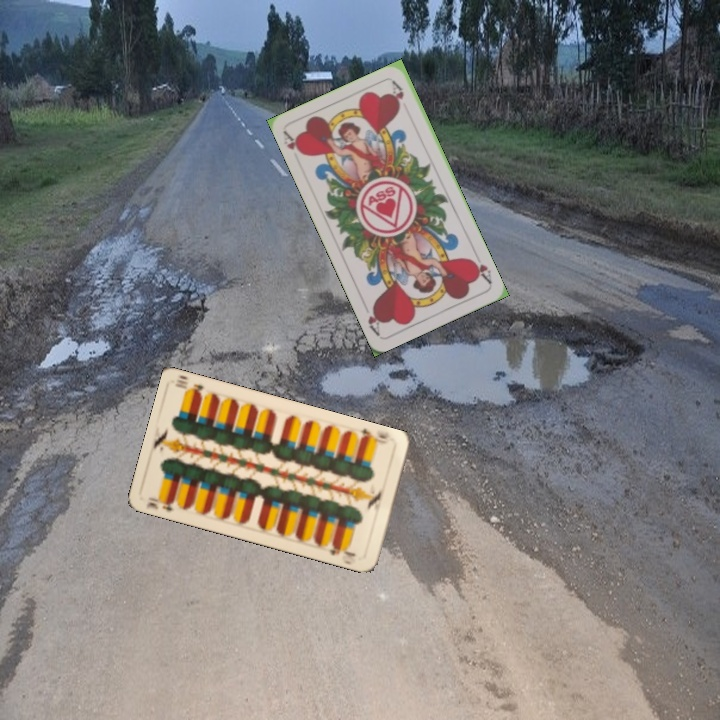E10: (356, 424, 396, 447), (142, 492, 177, 513)
HA: (466, 248, 494, 286), (279, 128, 307, 158)
